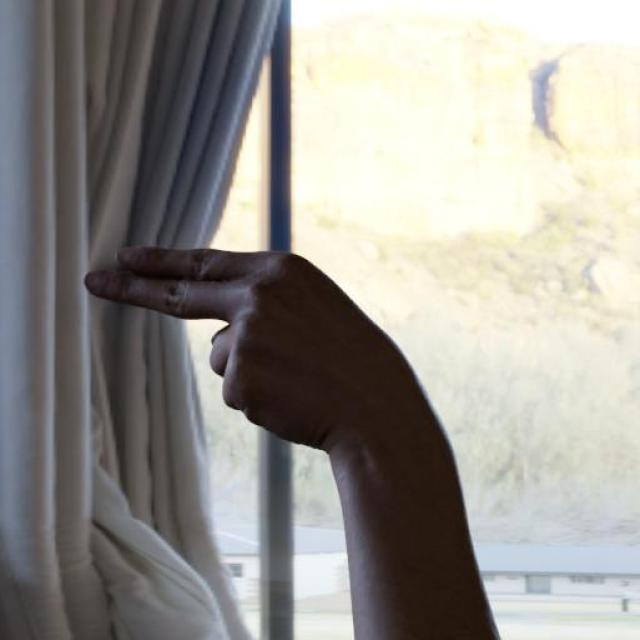H: (84, 239, 442, 460)
